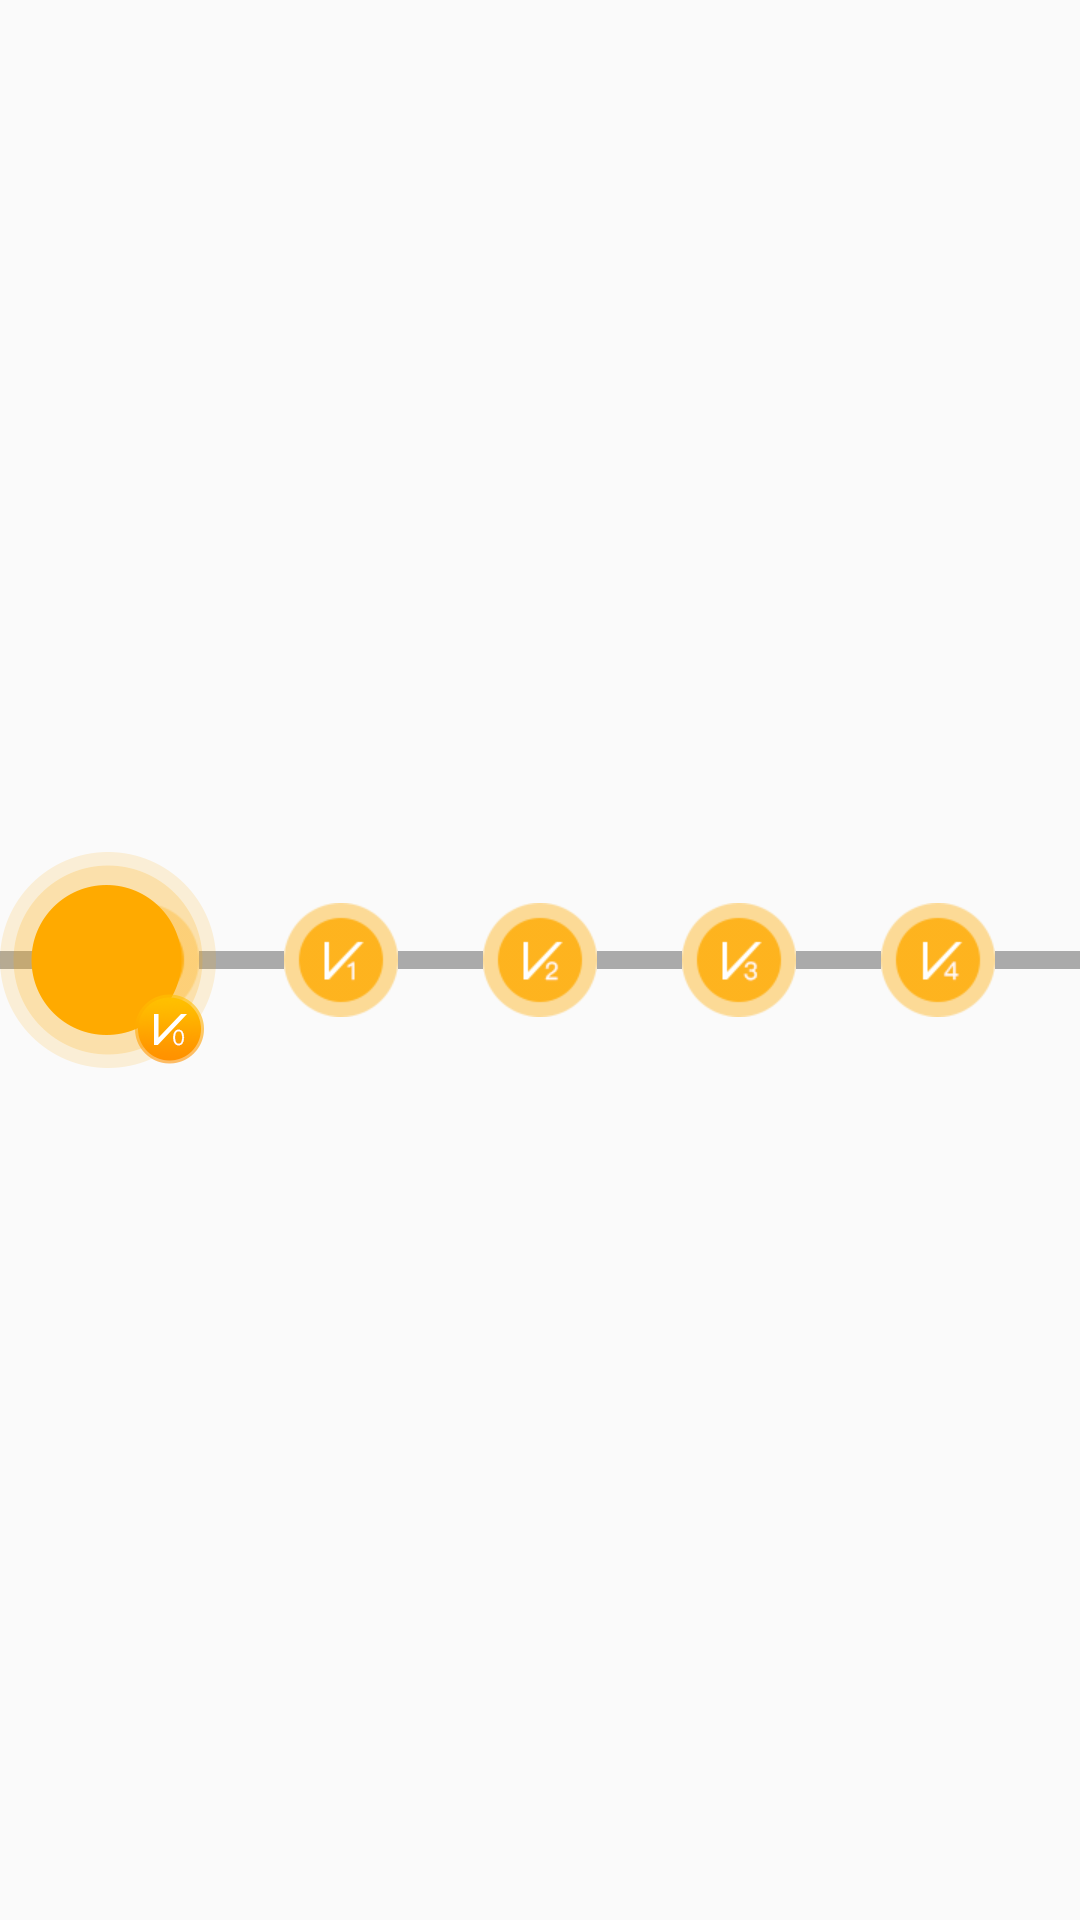

Icon click points for this 1080w x 1920h phone screenshot, format [x,y]:
xuanzhong: [108,960]
